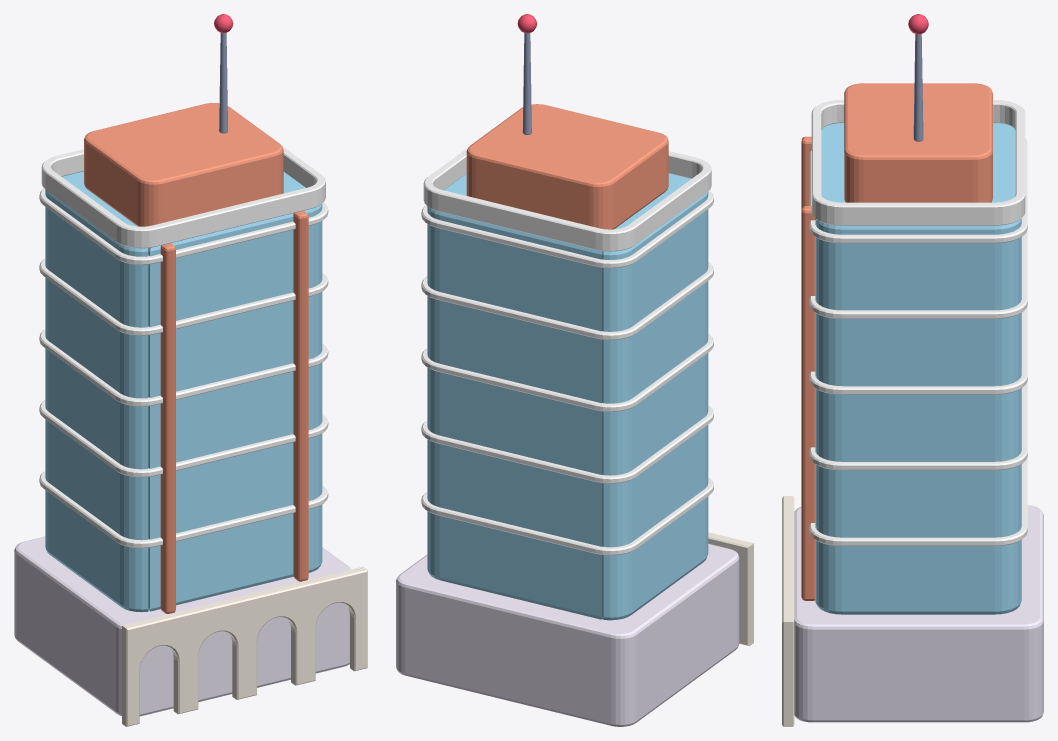
The model's file is comercio_g.glb.
The picture shows the model from 3 angles, left to right: view 1: azimuth 30°, elevation 25°; view 2: azimuth 150°, elevation 25°; view 3: azimuth 270°, elevation 25°; orthographic projection. The views are drawn at different scales.
Visible parts, largest first — view 1: comercio_g_corpo, comercio_g_vidro; view 2: comercio_g_vidro, comercio_g_corpo; view 3: comercio_g_corpo, comercio_g_vidro.
Boxes of the visible parts, box(x1,y1,x2,y2) form: comercio_g_corpo: box(14, 14, 367, 726); comercio_g_vidro: box(45, 171, 322, 612); comercio_g_vidro: box(427, 173, 708, 620); comercio_g_corpo: box(396, 14, 753, 726); comercio_g_corpo: box(782, 14, 1043, 726); comercio_g_vidro: box(815, 123, 1021, 614).
Bounding box in the file's own units: 12.12 × 30.08 × 10.65.
